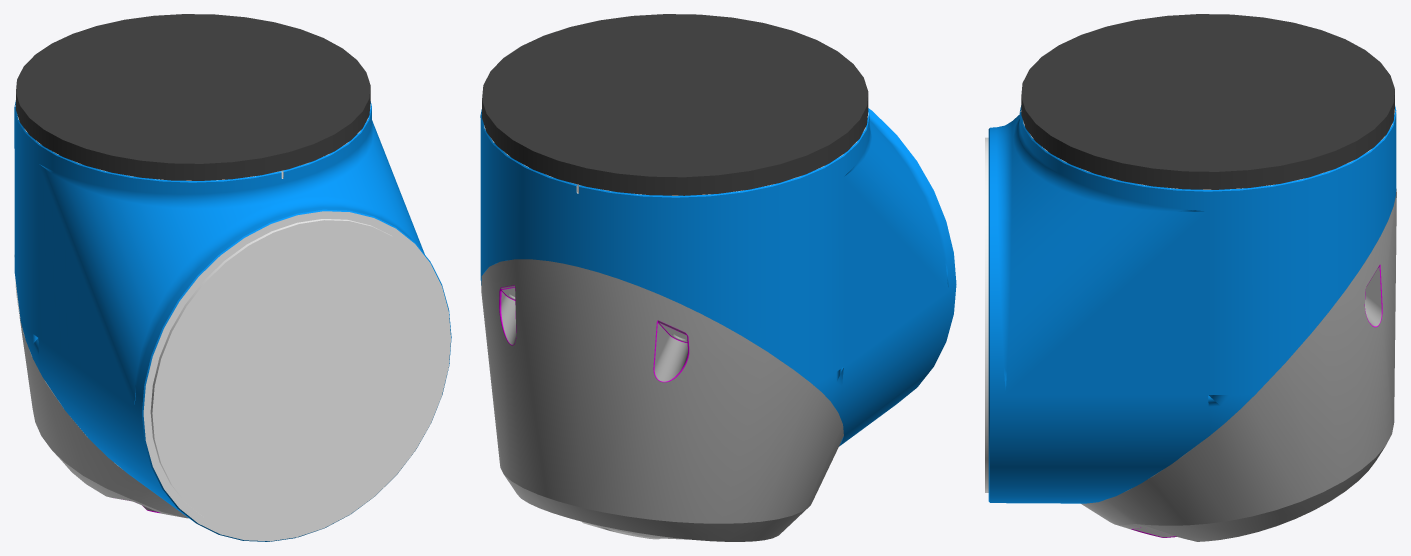
3 views of the same model, side by side, from view 1: azimuth 30°, elevation 25°; view 2: azimuth 150°, elevation 25°; view 3: azimuth 270°, elevation 25° (orthographic). The views are drawn at different scales.
Parts seen in each view (by area): view 1: RB20-1900ES_ELBOW; view 2: RB20-1900ES_ELBOW; view 3: RB20-1900ES_ELBOW.
Part boxes in pixels (x1,y1,x2,y2): RB20-1900ES_ELBOW: (14, 14, 451, 541); RB20-1900ES_ELBOW: (480, 14, 956, 541); RB20-1900ES_ELBOW: (985, 14, 1396, 541).
Bounding box in the file's own units: 0.152 × 0.1662 × 0.1866.
